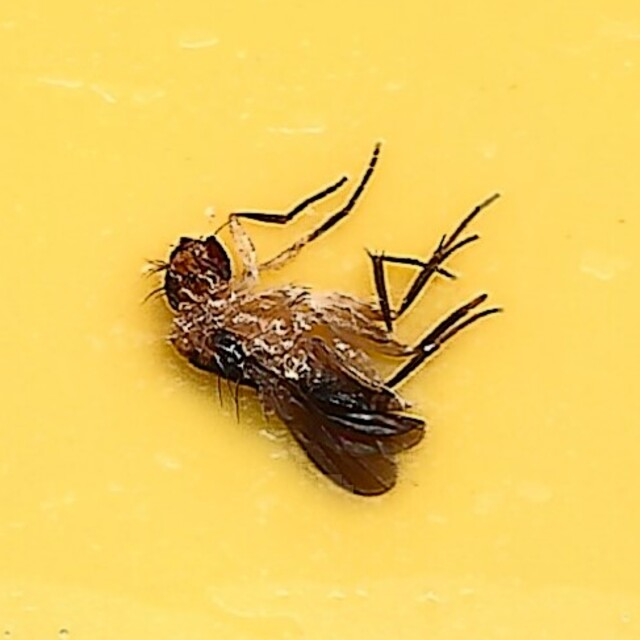Brachycera: (131, 133, 509, 507)
